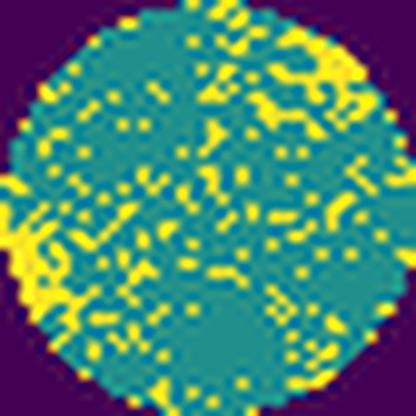Edge-Loc: (0, 200, 102, 358), (266, 26, 386, 124)
